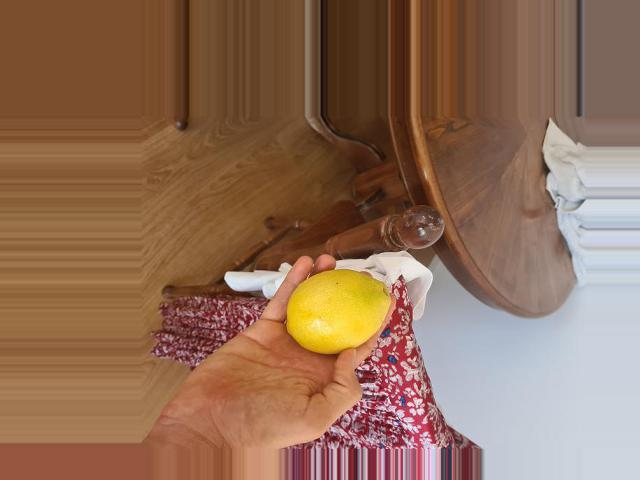lemon: (284, 269, 393, 351)
